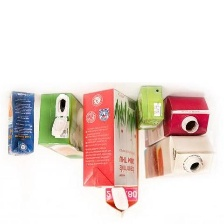carton: (77, 84, 136, 191), (141, 94, 211, 149), (142, 135, 216, 184), (36, 90, 83, 163), (3, 88, 36, 158), (132, 83, 165, 131), (101, 186, 141, 219)
